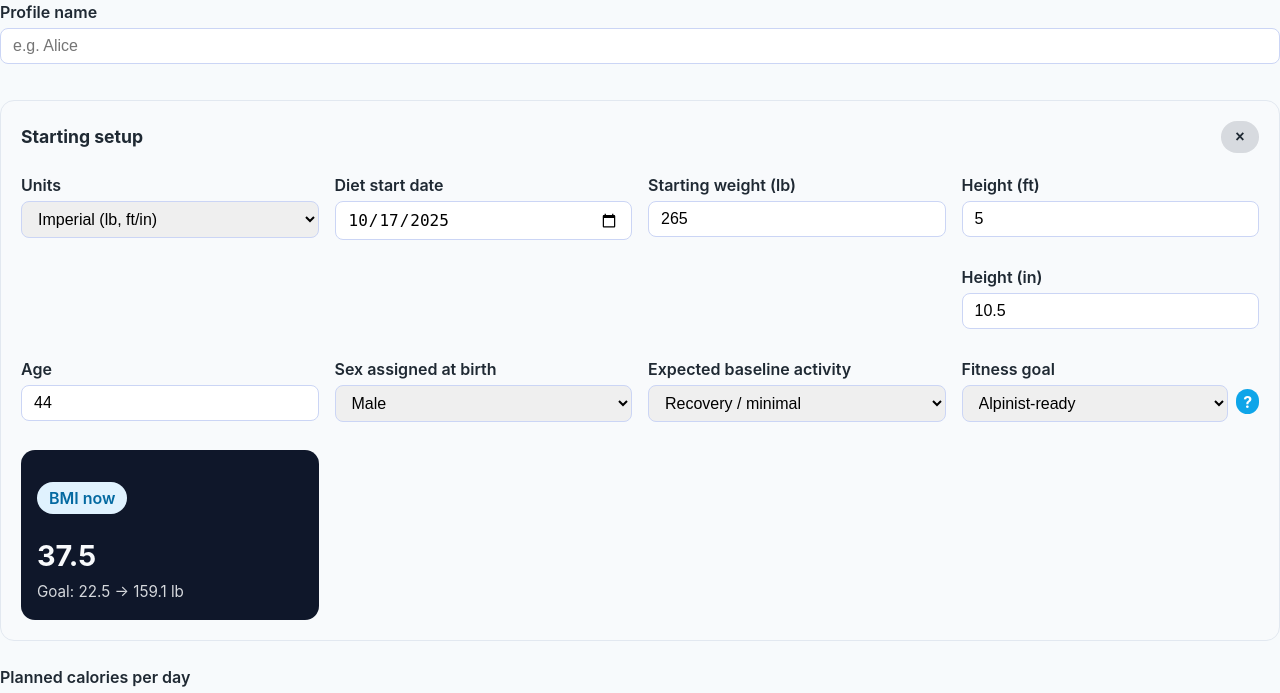
Scenario: ProfileForm › converts between metric and imperial units when toggled
Select "Metric (kg, cm)" in the dropdown labelled "Units" at (170, 220), box 21,201 -> 318,238
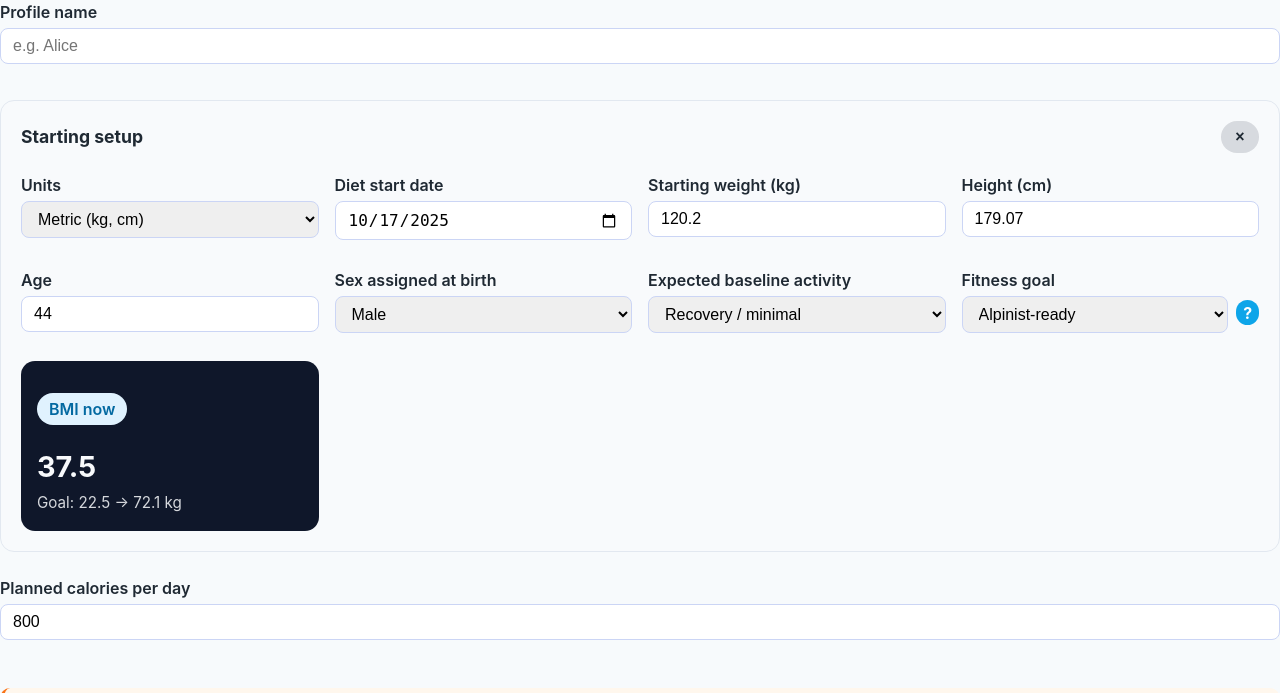
Select "Imperial (lb, ft/in)" in the dropdown labelled "Units" at (170, 220), box 21,201 -> 318,238
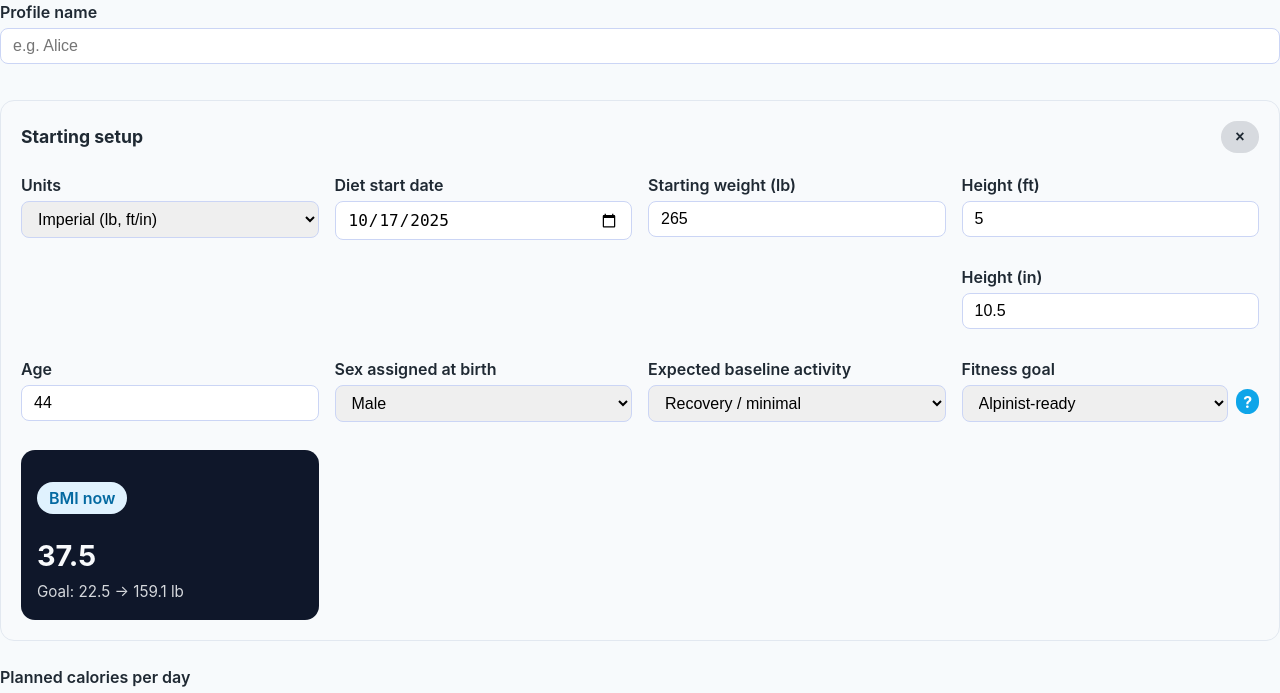
Now the number field labelled "Starting weight (lb)" holds "265", box 648,201 -> 946,237
Now the number field labelled "Height (ft)" holds "5", box 962,201 -> 1259,237
Now the number field labelled "Height (in)" holds "10.5", box 962,293 -> 1259,329
